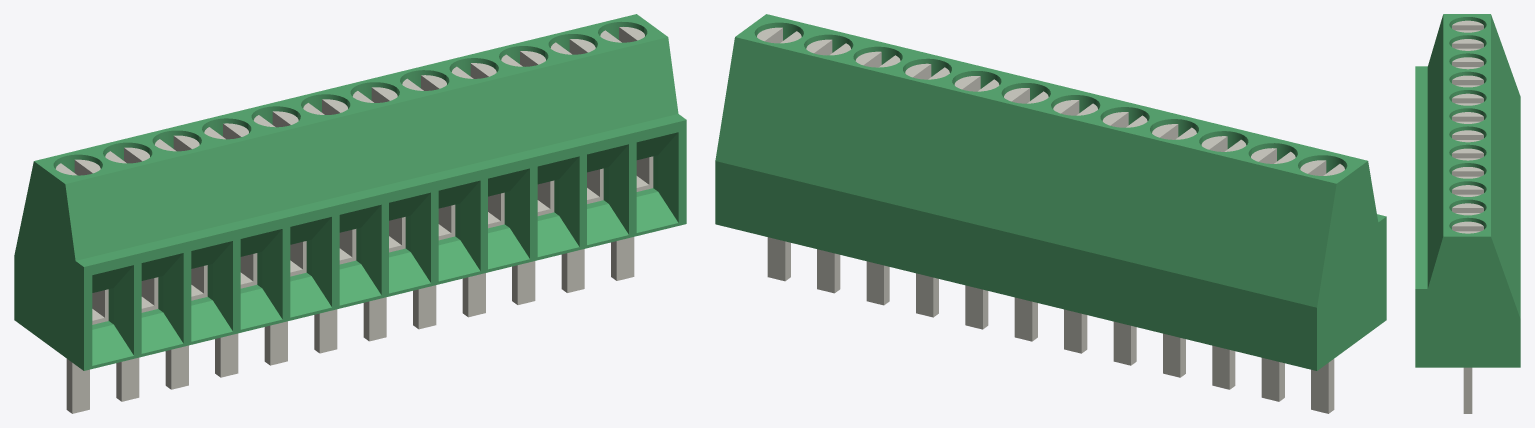
The model's file is kc-terminalblock_phoenix_mpt-0_5-12-2.54_1x12_p2.54mm_horizontal.glb.
3 views of the same model, side by side, from view 1: azimuth 30°, elevation 25°; view 2: azimuth 150°, elevation 25°; view 3: azimuth 270°, elevation 25° (orthographic). The views are drawn at different scales.
Parts seen in each view (by area): view 1: 0.08333333333333333_0.4166666666666667_0.16666666666666666_0, 0.6666666666666666_0.6666666666666666_0.5833333333333334_0.8; view 2: 0.08333333333333333_0.4166666666666667_0.16666666666666666_0, 0.6666666666666666_0.6666666666666666_0.5833333333333334_0.8; view 3: 0.08333333333333333_0.4166666666666667_0.16666666666666666_0, 0.6666666666666666_0.6666666666666666_0.5833333333333334_0.8.
Boxes of the visible parts, bbox=[...] form: 0.08333333333333333_0.4166666666666667_0.16666666666666666_0: bbox=[14, 14, 686, 370]; 0.6666666666666666_0.6666666666666666_0.5833333333333334_0.8: bbox=[56, 27, 653, 413]; 0.08333333333333333_0.4166666666666667_0.16666666666666666_0: bbox=[715, 14, 1386, 370]; 0.6666666666666666_0.6666666666666666_0.5833333333333334_0.8: bbox=[757, 27, 1344, 413]; 0.08333333333333333_0.4166666666666667_0.16666666666666666_0: bbox=[1415, 14, 1520, 367]; 0.6666666666666666_0.6666666666666666_0.5833333333333334_0.8: bbox=[1452, 20, 1483, 413].
Bounding box in the file's own units: 3.09 × 1.2 × 0.6198.
